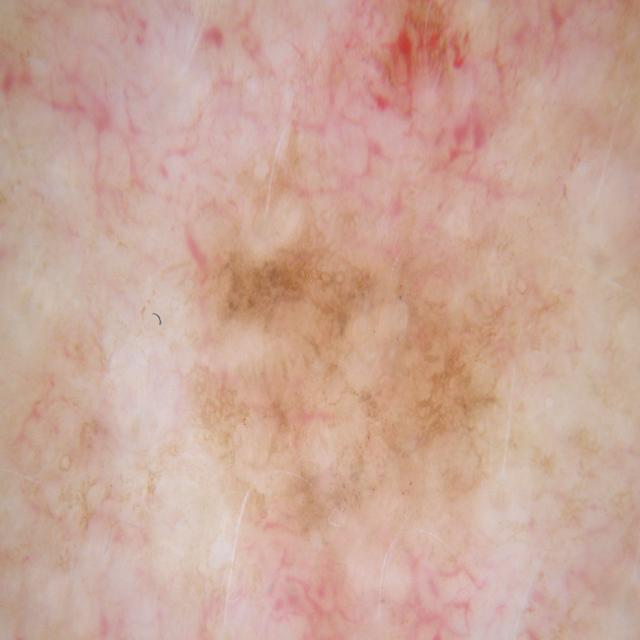Melanoma: (161, 194, 577, 477)
